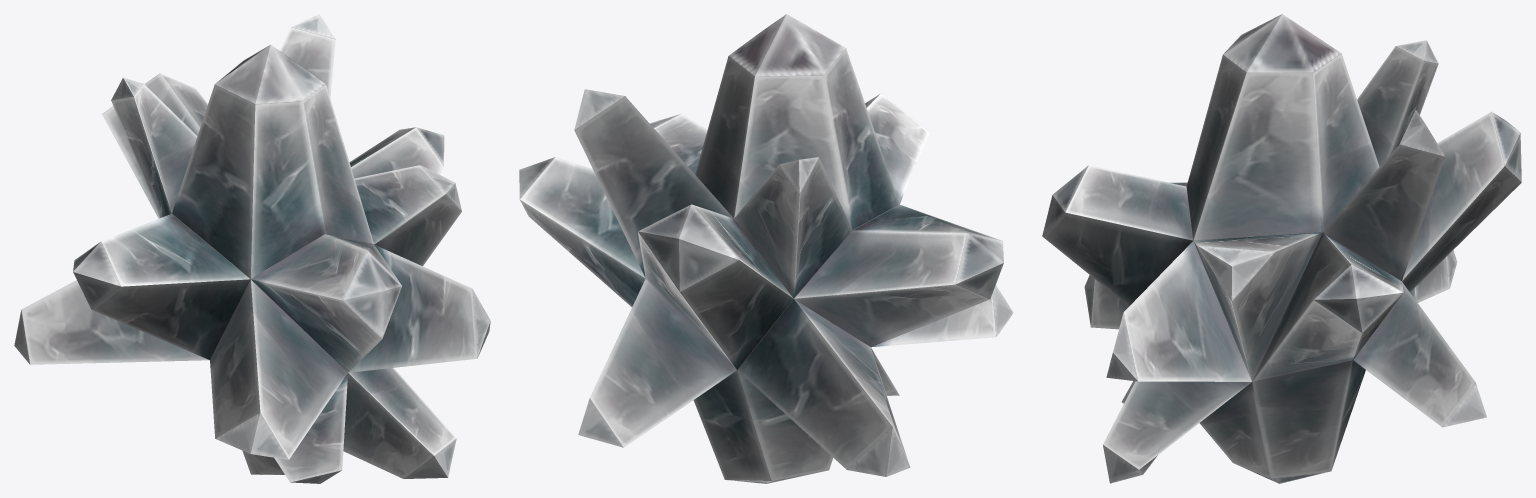
File: Crystal_Lrg_A_01.FBX
The picture shows the model from 3 angles, left to right: view 1: azimuth 30°, elevation 25°; view 2: azimuth 150°, elevation 25°; view 3: azimuth 270°, elevation 25°; orthographic projection. The views are drawn at different scales.
Parts seen in each view (by area): view 1: Crystal_Lrg_A_01; view 2: Crystal_Lrg_A_01; view 3: Crystal_Lrg_A_01.
Boxes of the visible parts, x1,y1,x2,y2 form: Crystal_Lrg_A_01: [14, 14, 490, 483]; Crystal_Lrg_A_01: [519, 14, 1013, 483]; Crystal_Lrg_A_01: [1042, 14, 1521, 483].
Size of the model in its own units: 606 by 619 by 585.
Materials: 1 (1 with a texture image).
